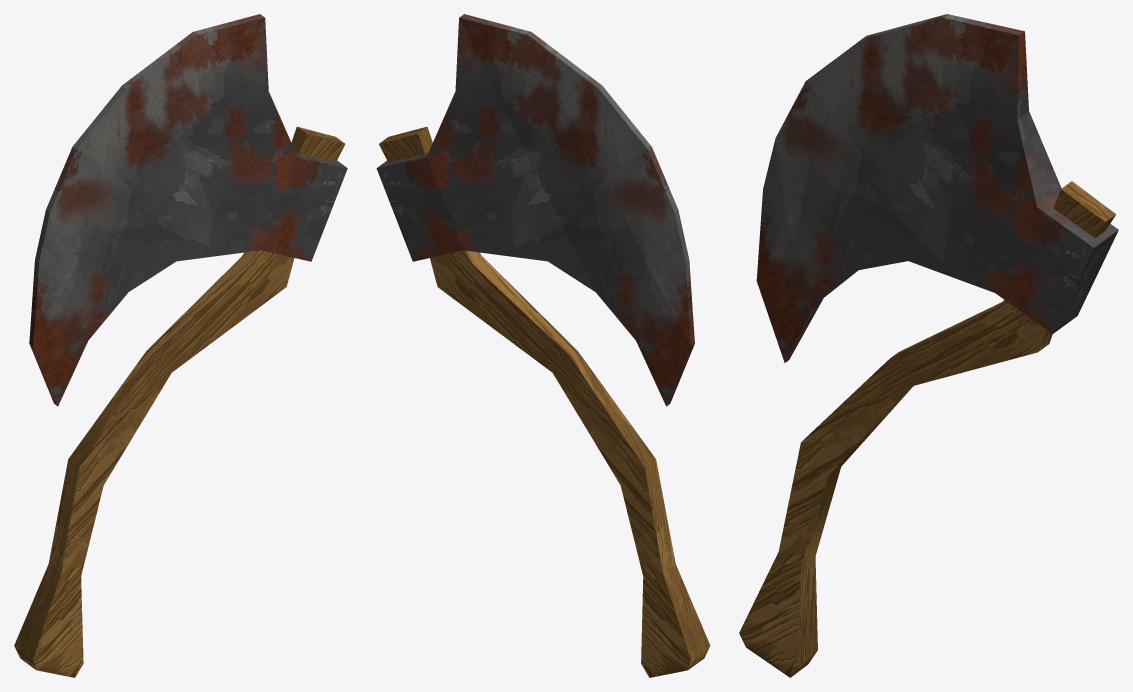
Rendered from practice_axeTexture.glb.
The picture shows the model from 3 angles, left to right: view 1: azimuth 30°, elevation 25°; view 2: azimuth 150°, elevation 25°; view 3: azimuth 330°, elevation 25°; orthographic projection. The views are drawn at different scales.
Visible parts, largest first — view 1: pAxeHead, pHandle; view 2: pAxeHead, pHandle; view 3: pAxeHead, pHandle.
Part boxes in pixels (x1=…): pAxeHead: x1=29, y1=14, x2=347, y2=406; pHandle: x1=14, y1=126, x2=345, y2=677; pAxeHead: x1=376, y1=14, x2=694, y2=406; pHandle: x1=379, y1=126, x2=710, y2=677; pAxeHead: x1=756, y1=14, x2=1118, y2=362; pHandle: x1=739, y1=181, x2=1115, y2=677.
Bounding box in the file's own units: 0.0223 × 0.041 × 0.00267.
1 material, 1 textured.
